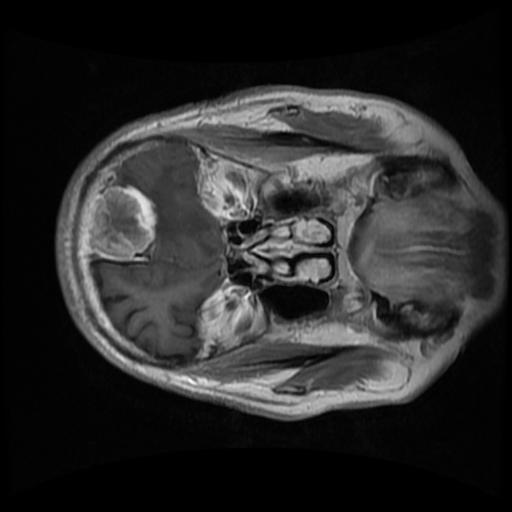meningioma: (90, 184, 158, 258)
